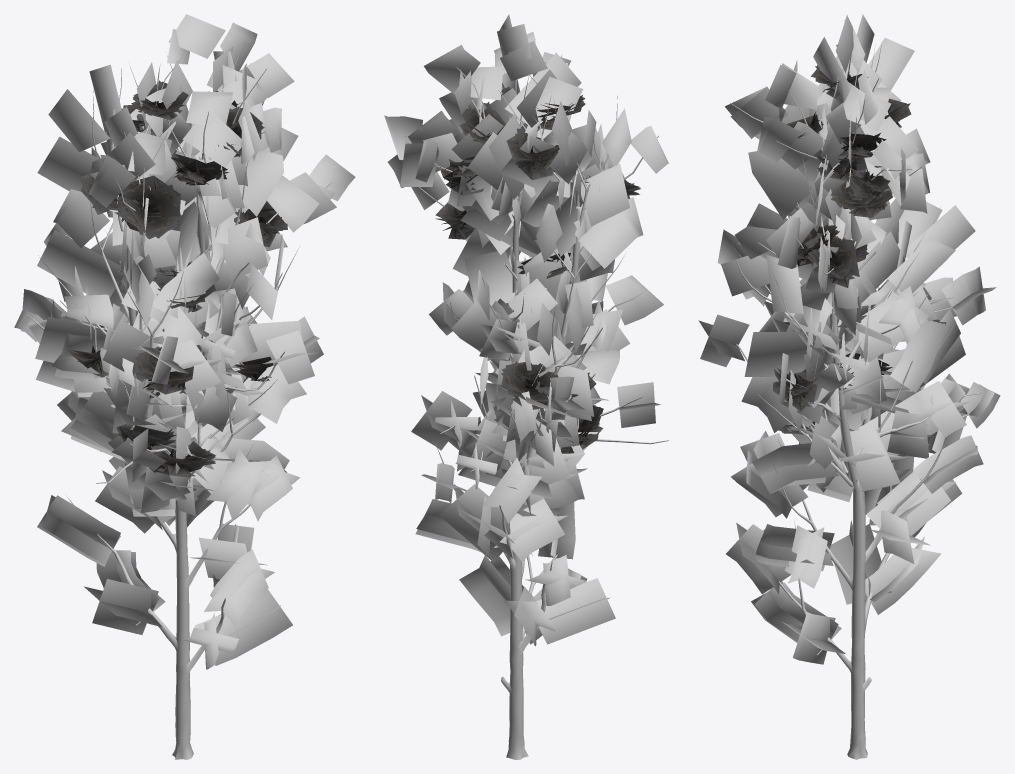
Rendered from Old_Horror_Tree.fbx.
3 views of the same model, side by side, from view 1: azimuth 30°, elevation 25°; view 2: azimuth 150°, elevation 25°; view 3: azimuth 270°, elevation 25° (orthographic). The views are drawn at different scales.
Visible parts, largest first — view 1: Old_Horror_Tree_Branches_08, Old_Horror_Tree_diffus, Old_Horror_Tree_RiverBirchBark, Old_Horror_Tree_IMG_20160420_16230723; view 2: Old_Horror_Tree_Branches_08, Old_Horror_Tree_diffus, Old_Horror_Tree_RiverBirchBark, Old_Horror_Tree_IMG_20160420_16230723; view 3: Old_Horror_Tree_Branches_08, Old_Horror_Tree_diffus, Old_Horror_Tree_RiverBirchBark, Old_Horror_Tree_IMG_20160420_16230723.
Part boxes in pixels (x1,y1,x2,y2): Old_Horror_Tree_Branches_08: [14, 14, 355, 669]; Old_Horror_Tree_diffus: [66, 80, 287, 477]; Old_Horror_Tree_RiverBirchBark: [27, 43, 332, 759]; Old_Horror_Tree_IMG_20160420_16230723: [38, 56, 299, 674]; Old_Horror_Tree_Branches_08: [384, 14, 668, 646]; Old_Horror_Tree_diffus: [435, 87, 640, 460]; Old_Horror_Tree_RiverBirchBark: [404, 52, 668, 759]; Old_Horror_Tree_IMG_20160420_16230723: [435, 74, 625, 693]; Old_Horror_Tree_Branches_08: [698, 14, 1000, 664]; Old_Horror_Tree_diffus: [773, 65, 946, 434]; Old_Horror_Tree_RiverBirchBark: [730, 51, 983, 759]; Old_Horror_Tree_IMG_20160420_16230723: [734, 20, 956, 692].
Size of the model in its own units: 50.78 by 47.3 by 128.
